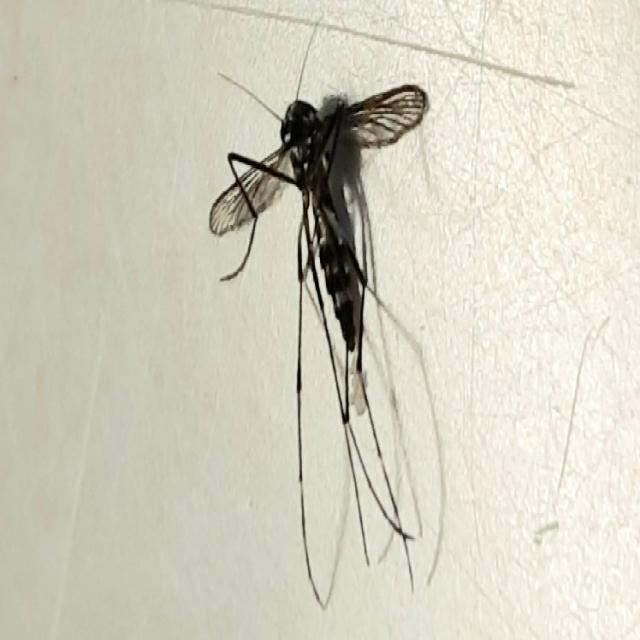albopictus: (199, 42, 444, 611)
